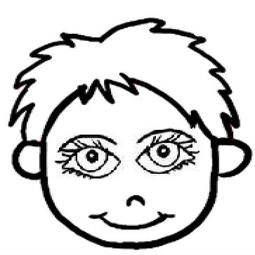ear: (213, 135, 251, 181), (7, 140, 45, 183)
eye: (129, 133, 201, 177), (59, 140, 122, 179)
eyebrow: (58, 133, 117, 151), (135, 126, 196, 142)
mouth: (83, 207, 183, 231)
nose: (116, 187, 156, 209)
